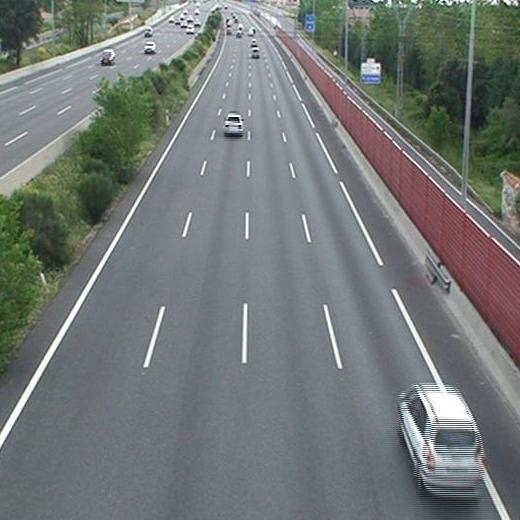car: (399, 387, 480, 495), (224, 116, 242, 133), (251, 48, 259, 59)
